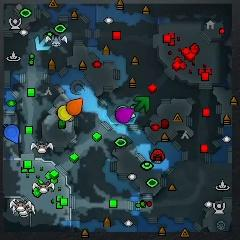p1: (4, 124, 20, 145)
p2: (116, 105, 135, 119)
p3: (115, 108, 134, 123)
p4: (58, 105, 72, 121)
p5: (67, 98, 83, 115)
x3: (35, 35, 51, 51)
x4: (134, 96, 150, 112)
